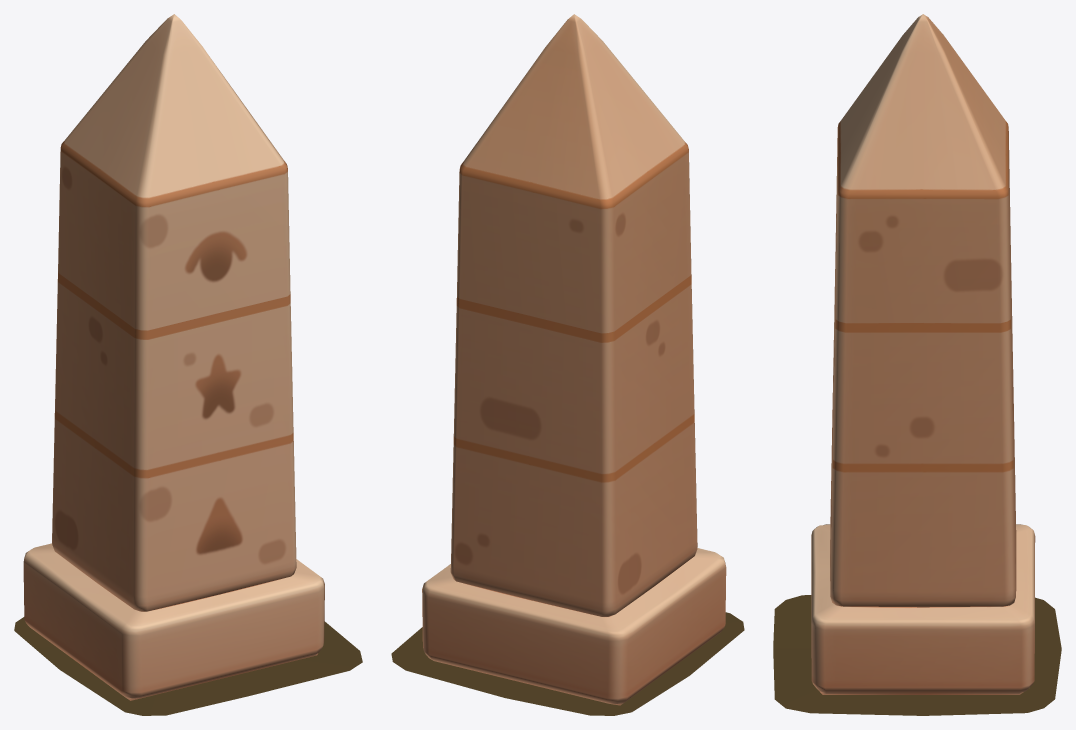
File: E_Column02.fbx
3 views of the same model, side by side, from view 1: azimuth 30°, elevation 25°; view 2: azimuth 150°, elevation 25°; view 3: azimuth 270°, elevation 25° (orthographic).
Visible parts, largest first — view 1: E_column02_a, E_column02_shadow; view 2: E_column02_a, E_column02_shadow; view 3: E_column02_a, E_column02_shadow.
Part boxes in pixels (x1,y1,x2,y2): E_column02_a: (23,14,324,700); E_column02_shadow: (14,617,362,715); E_column02_a: (422,14,726,705); E_column02_shadow: (391,612,744,715); E_column02_a: (811,14,1035,694); E_column02_shadow: (773,595,1061,715).
Bounding box in the file's own units: 113 × 271 × 112.
